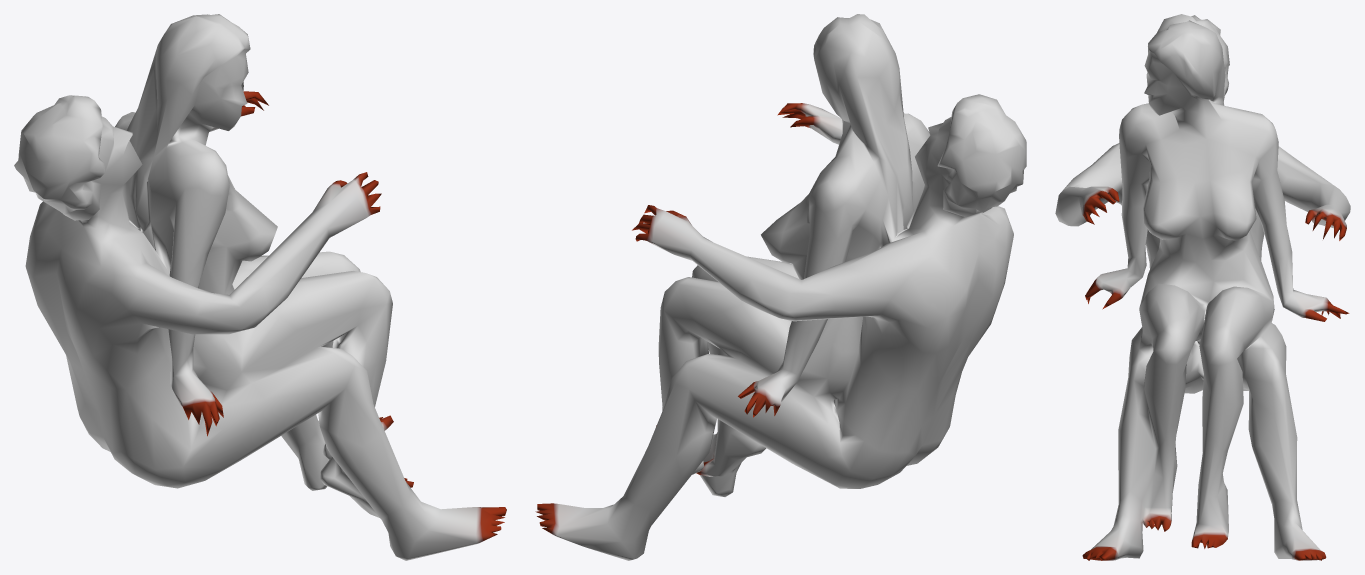
Rendered from position7_low.fbx.
3 views of the same model, side by side, from view 1: azimuth 30°, elevation 25°; view 2: azimuth 150°, elevation 25°; view 3: azimuth 270°, elevation 25° (orthographic). The views are drawn at different scales.
Visible parts, largest first — view 1: Sitting_female; view 2: Sitting_female; view 3: Sitting_female.
Part boxes in pixels (<box>): Sitting_female: <box>14,14,506,560</box>; Sitting_female: <box>535,14,1026,560</box>; Sitting_female: <box>1055,14,1350,560</box>.
Size of the model in its own units: 0.4488 by 0.5541 by 0.3183.
